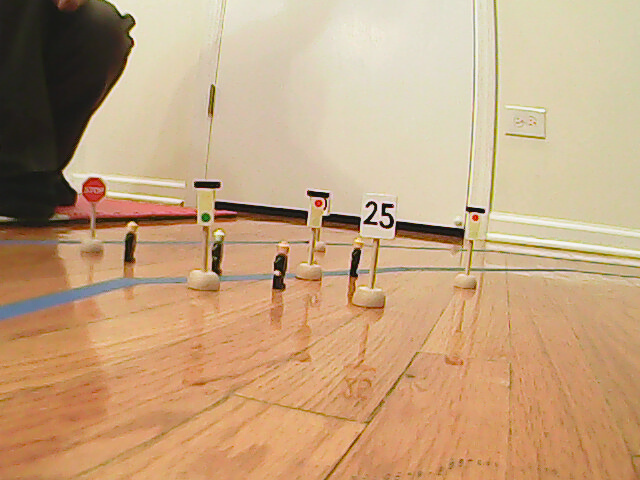Green Traffic Light: (193, 181, 219, 226)
Person: (271, 237, 290, 291), (121, 219, 141, 265), (213, 229, 227, 278), (347, 236, 364, 276)
Red Traffic Light: (306, 189, 326, 230), (464, 206, 484, 244)
Speed Limit 25: (361, 192, 395, 240)
Stop Sign: (80, 175, 110, 207)
